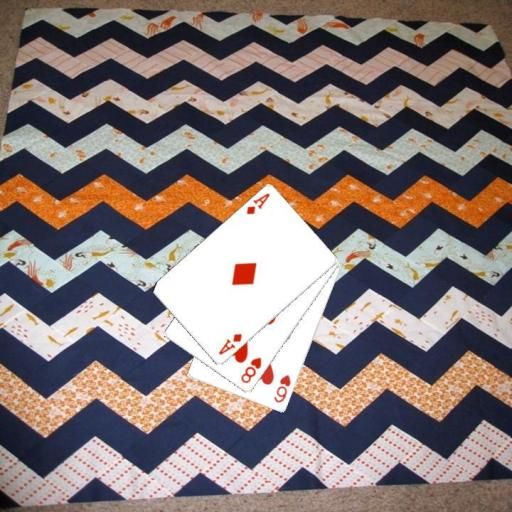6H: (271, 372, 292, 405)
8H: (238, 354, 263, 386)
AD: (243, 190, 271, 216), (216, 331, 243, 357)
